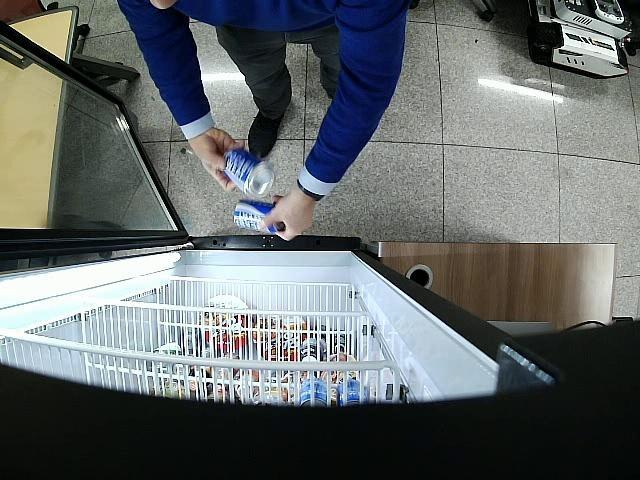13_pocariSweat: (222, 148, 274, 199), (233, 200, 284, 232)
